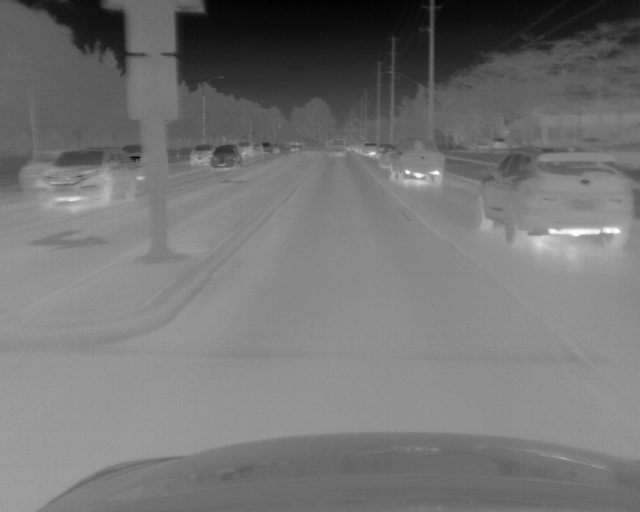car: (472, 148, 629, 248), (35, 148, 134, 206), (389, 139, 444, 187), (16, 148, 56, 183), (211, 145, 241, 171), (126, 145, 145, 175), (190, 145, 210, 164), (356, 140, 376, 156), (378, 147, 392, 168), (330, 140, 346, 156), (241, 144, 251, 158)
